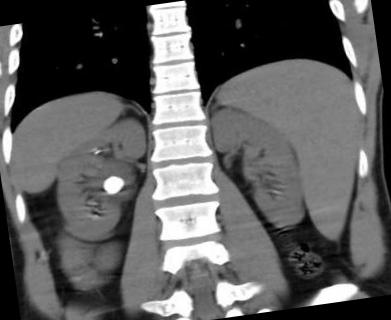Tas_Var: (100, 170, 128, 197), (90, 146, 104, 157)
